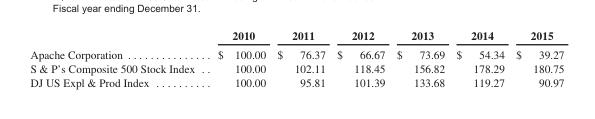table: (29, 28, 563, 88)
table column: (29, 28, 205, 88), (205, 28, 270, 88), (270, 28, 330, 88), (330, 28, 390, 88), (449, 28, 509, 88), (390, 28, 449, 88), (509, 28, 563, 88)
table column header: (29, 28, 563, 44)
table row: (29, 44, 563, 61), (29, 28, 563, 44), (29, 61, 563, 75), (29, 75, 563, 88)
